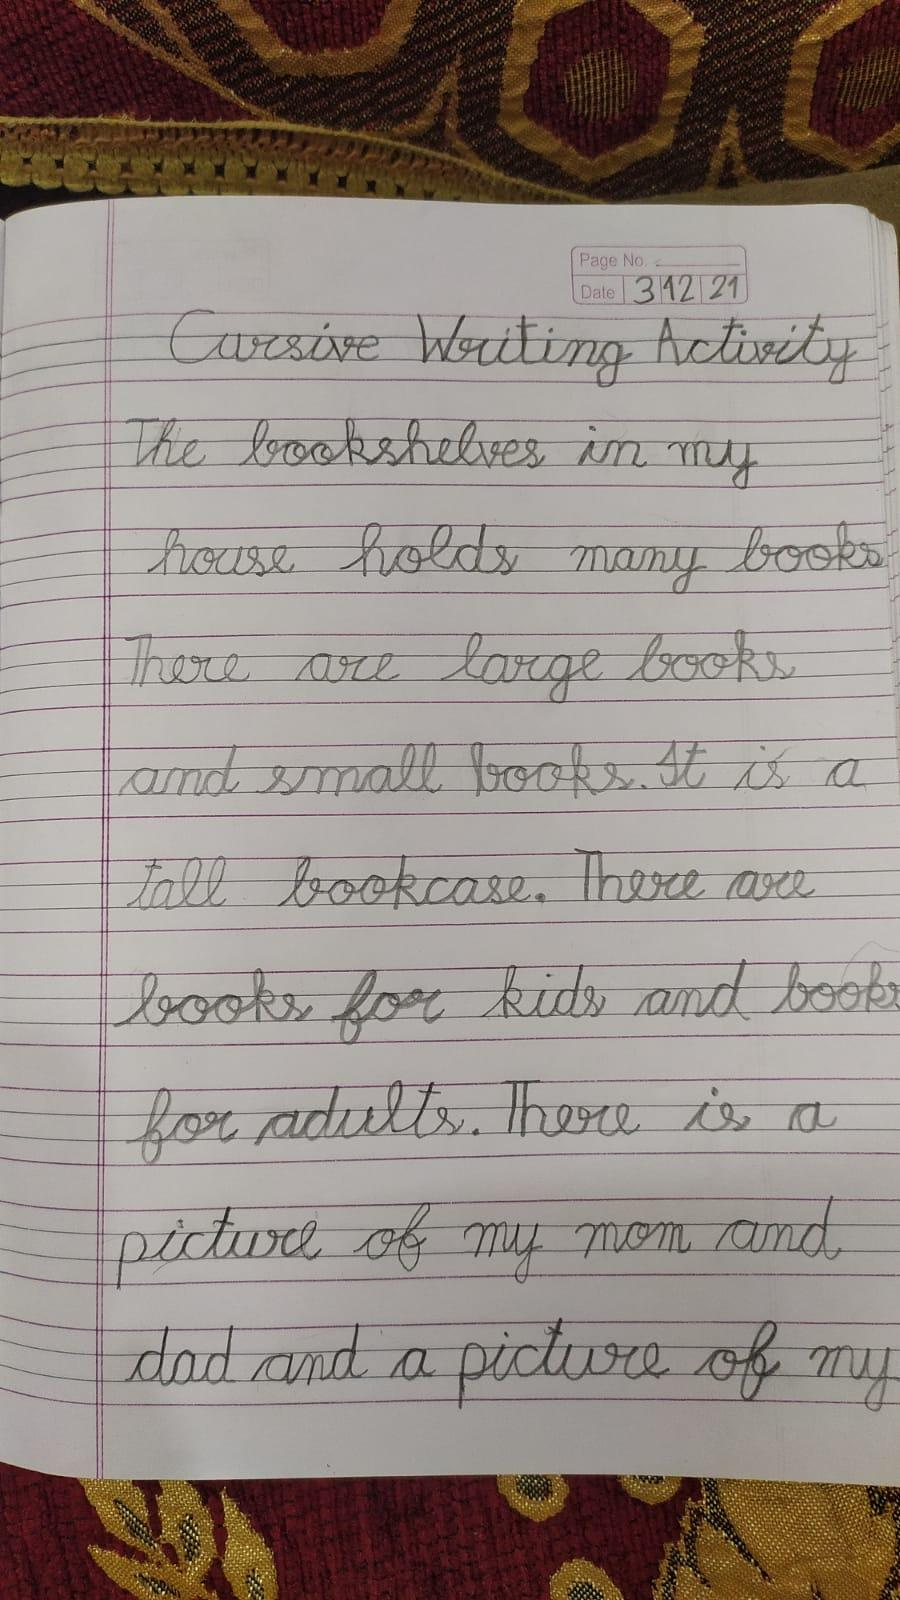text: (122, 1305, 900, 1422), (108, 947, 900, 1055), (110, 1185, 847, 1298), (120, 1070, 843, 1175), (140, 512, 890, 602), (163, 302, 865, 392), (120, 620, 802, 712), (122, 727, 875, 805), (120, 410, 765, 500), (118, 843, 825, 920), (573, 267, 743, 312), (575, 243, 651, 275)
